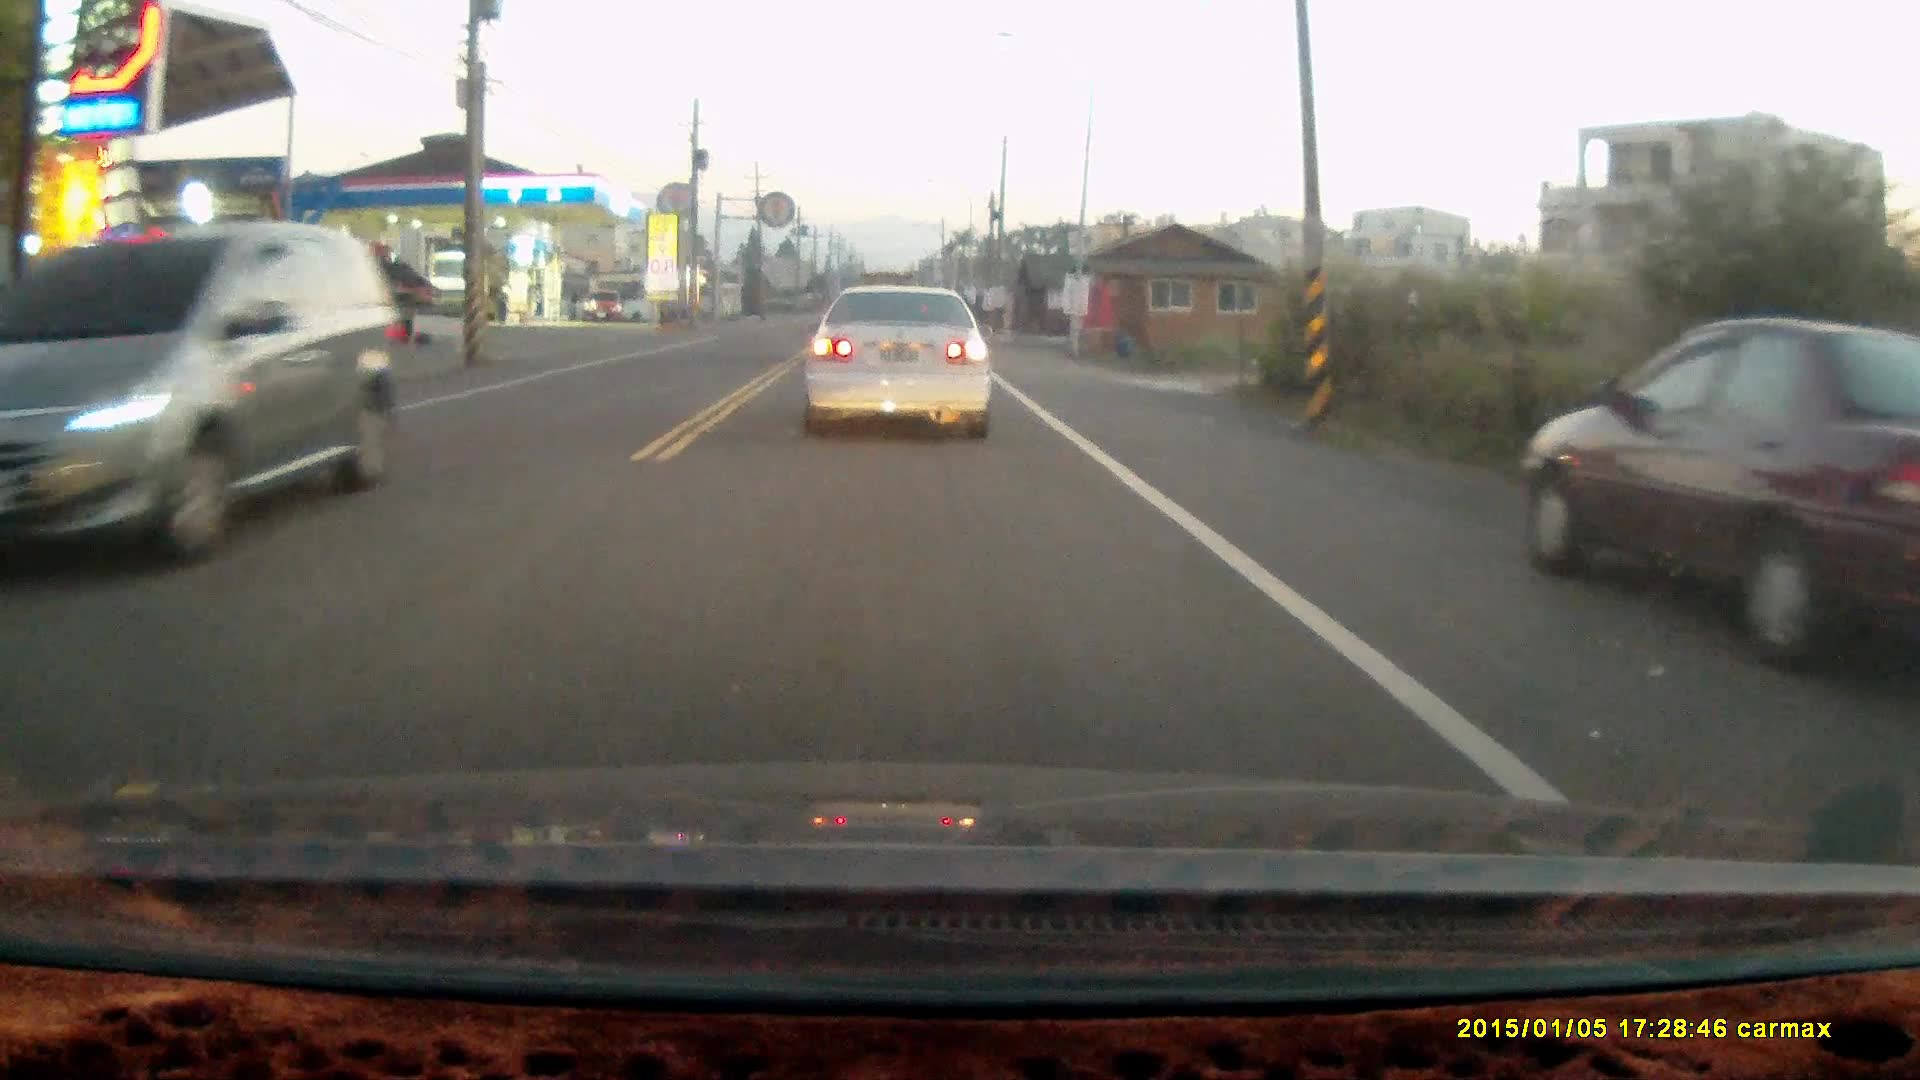pedestrian: (493, 279, 514, 321)
vehicle: (1520, 314, 1918, 716), (1, 223, 417, 570), (796, 280, 995, 440), (584, 289, 624, 324)
